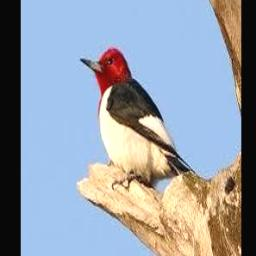Woodpecker: (80, 48, 190, 182)
